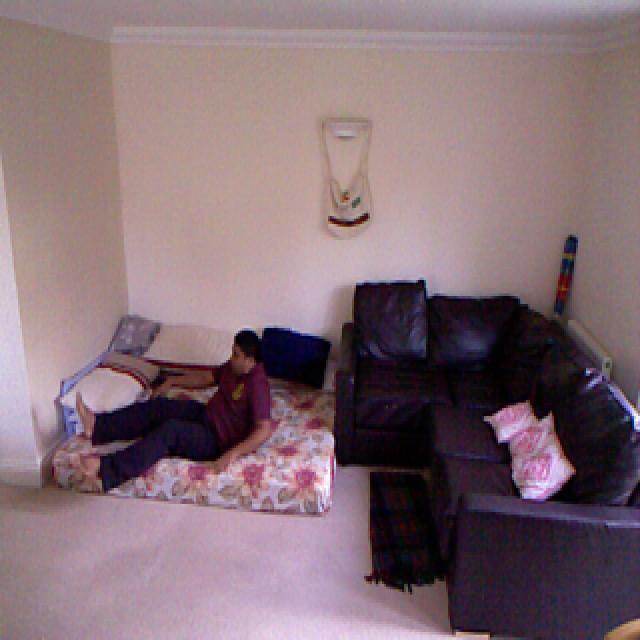Fall: (47, 328, 301, 488)
